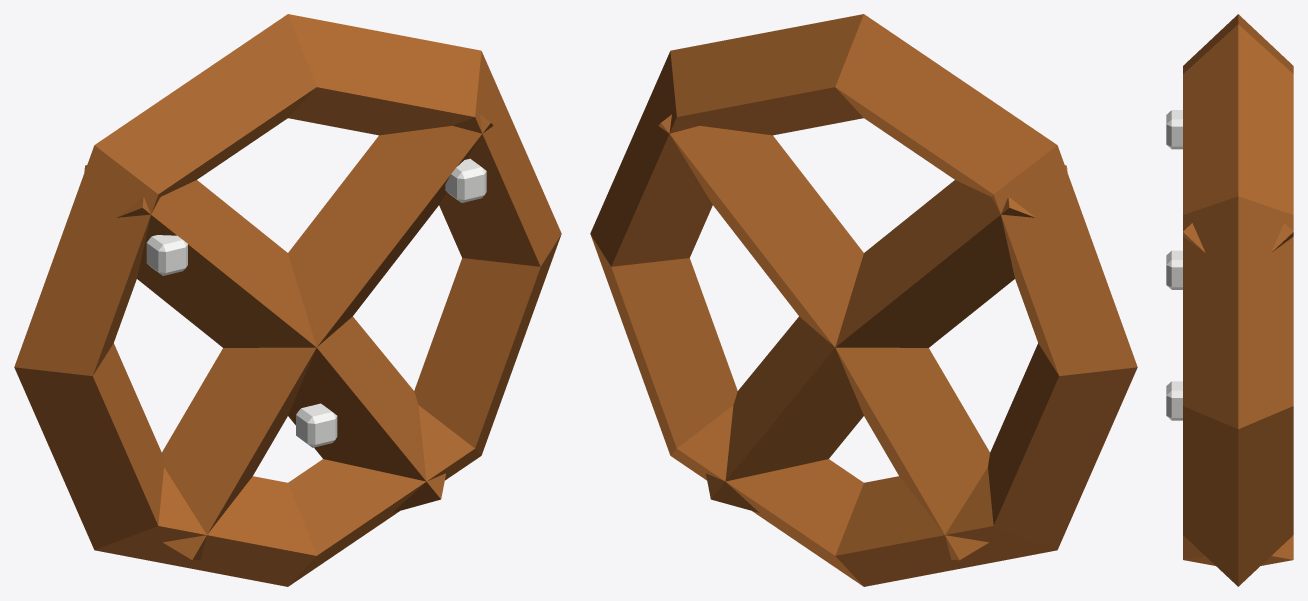
Rendered from Pretzel.fbx.
3 views of the same model, side by side, from view 1: azimuth 30°, elevation 25°; view 2: azimuth 150°, elevation 25°; view 3: azimuth 270°, elevation 25° (orthographic). The views are drawn at different scales.
Visible parts, largest first — view 1: Pretzel; view 2: Pretzel; view 3: Pretzel.
Boxes of the visible parts, <box> form: Pretzel: <box>14,14,561,586</box>; Pretzel: <box>590,14,1137,586</box>; Pretzel: <box>1166,14,1293,586</box>.
Bounding box in the file's own units: 1.1 × 1.1 × 0.23.
Materials: 1 (1 with a texture image).
